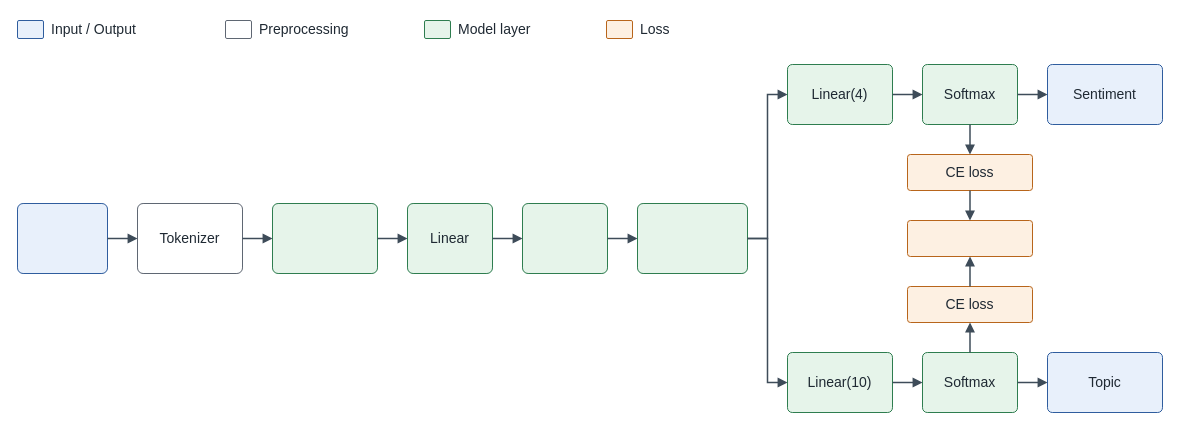
Some shapes in this 1180 by 430 pixel diagram are drawn without their labels. Each missing label, with the centre of its shape:
Encoder: the point at 325,238
Input: the point at 62,238
LayerNorm: the point at 692,238
SiLU: the point at 565,238
Total loss: the point at 969,238
